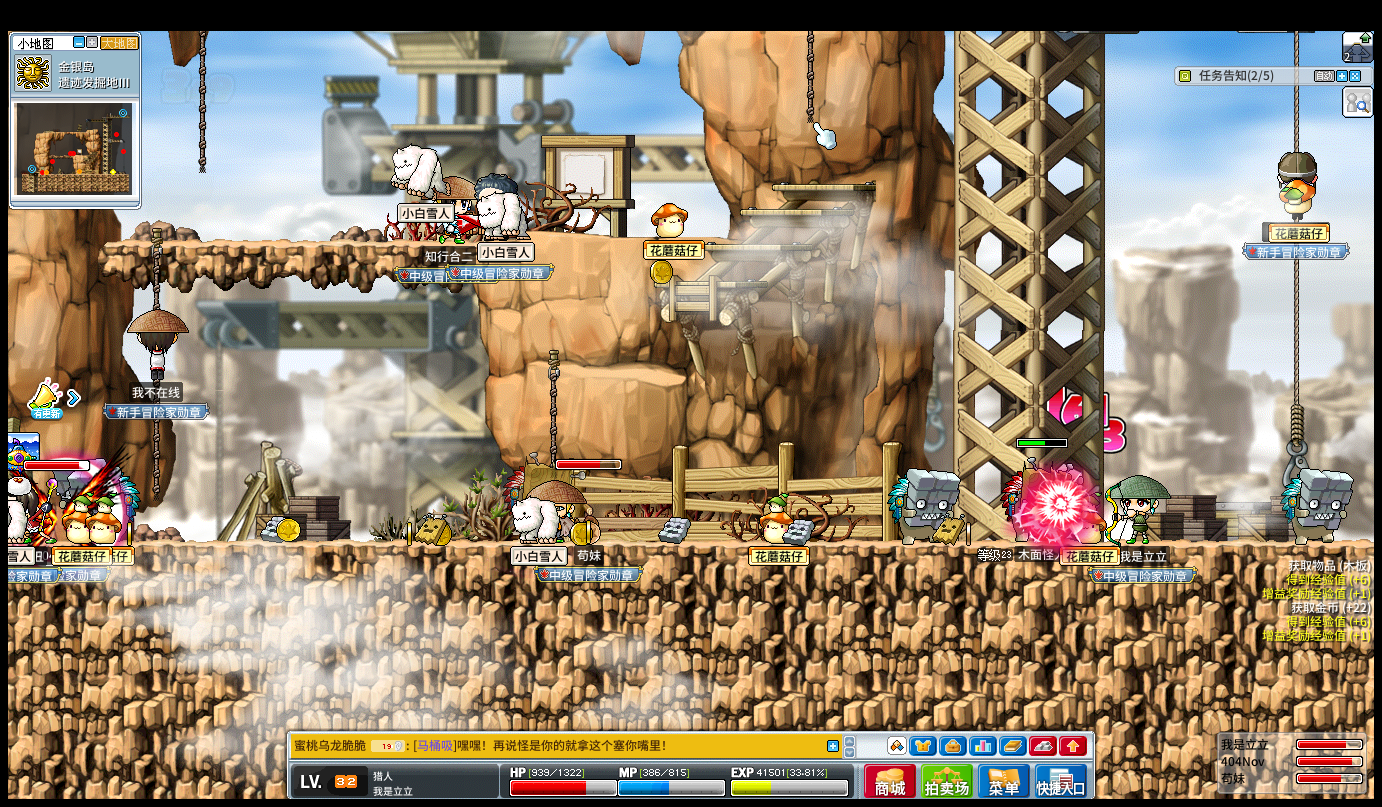floor: (103, 239, 479, 249), (577, 364, 688, 384), (649, 280, 768, 291), (603, 232, 736, 240), (648, 279, 765, 288), (703, 243, 811, 252), (736, 207, 847, 215), (770, 183, 873, 191)
monster: (1280, 468, 1355, 543), (887, 468, 959, 544)
rope: (546, 349, 561, 467), (1291, 258, 1302, 406), (198, 29, 207, 173), (152, 419, 164, 501), (150, 227, 161, 308), (1292, 29, 1299, 148), (805, 29, 813, 123), (1289, 399, 1304, 447), (152, 420, 160, 500)
